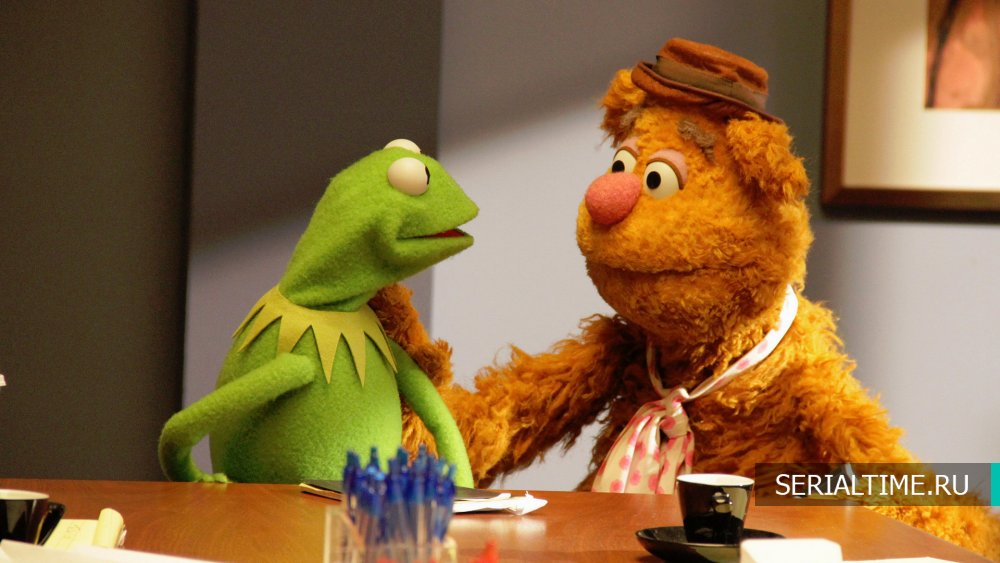kermit: (286, 130, 483, 325)
